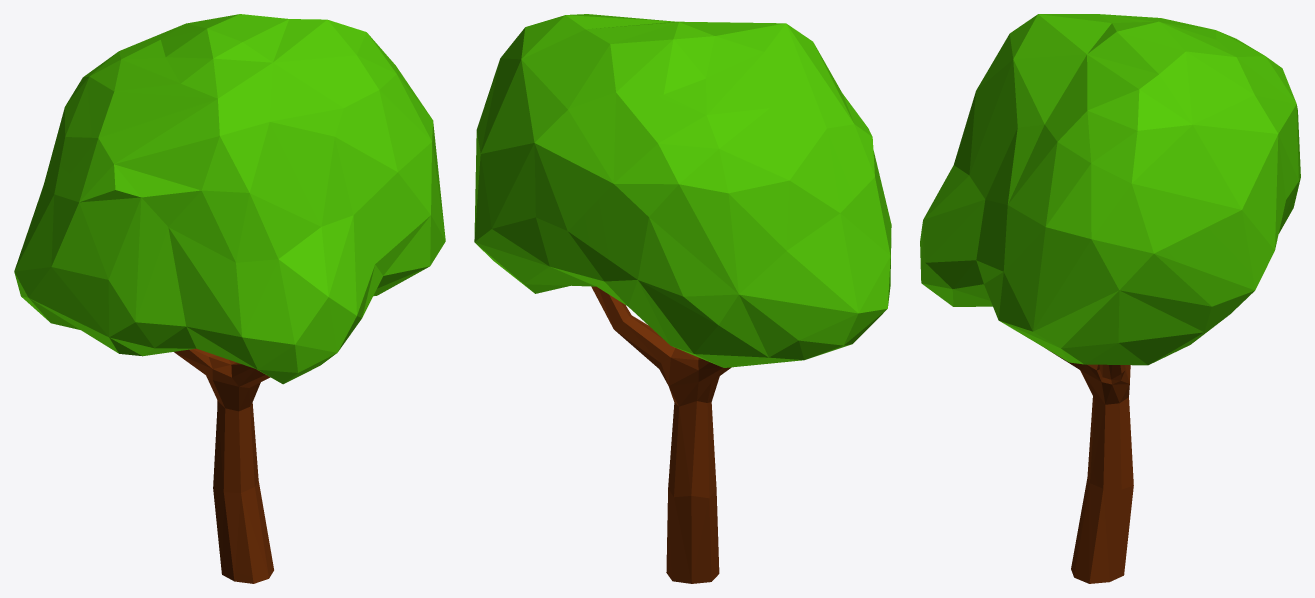
File: 6_Plaza_Veracruz_Naranjo.fbx
The picture shows the model from 3 angles, left to right: view 1: azimuth 30°, elevation 25°; view 2: azimuth 150°, elevation 25°; view 3: azimuth 270°, elevation 25°; orthographic projection. The views are drawn at different scales.
Visible parts, largest first — view 1: Tree_03; view 2: Tree_03; view 3: Tree_03.
Part boxes in pixels (bbox=[...]): Tree_03: bbox=[14, 14, 445, 583]; Tree_03: bbox=[474, 14, 891, 583]; Tree_03: bbox=[920, 14, 1300, 583].
Bounding box in the file's own units: 378 × 495 × 313.
